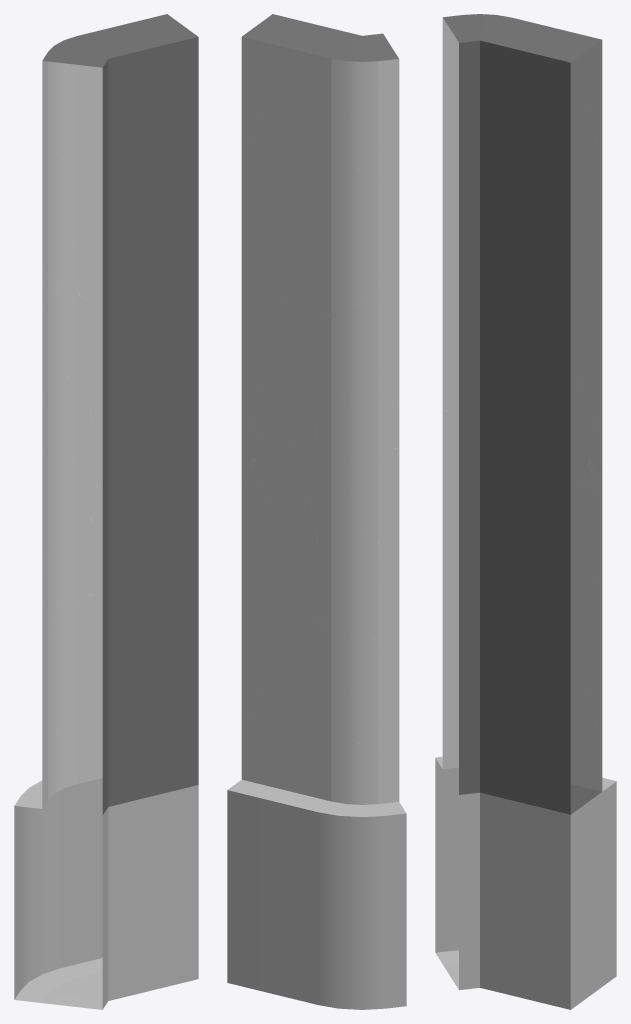
File: SM_BuildingFacade_StoreFront_Corner_Right_01.fbx
3 views of the same model, side by side, from view 1: azimuth 30°, elevation 25°; view 2: azimuth 150°, elevation 25°; view 3: azimuth 330°, elevation 25° (orthographic).
Parts seen in each view (by area): view 1: SM_BuildingFacade_StoreFront_Corner_Right_01; view 2: SM_BuildingFacade_StoreFront_Corner_Right_01; view 3: SM_BuildingFacade_StoreFront_Corner_Right_01.
Boxes of the visible parts, x1,y1,x2,y2 form: SM_BuildingFacade_StoreFront_Corner_Right_01: [14, 14, 198, 1009]; SM_BuildingFacade_StoreFront_Corner_Right_01: [227, 14, 406, 1009]; SM_BuildingFacade_StoreFront_Corner_Right_01: [435, 14, 616, 1009].
Bounding box in the file's own units: 88.37 × 499 × 51.15.
